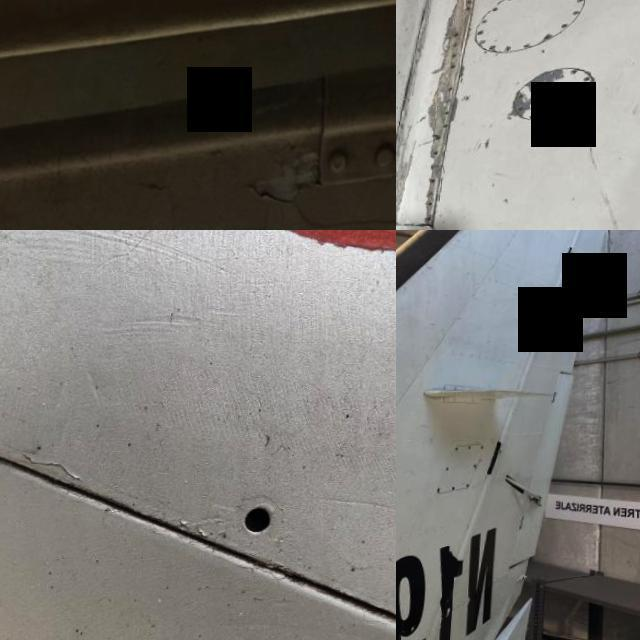Crack: (90, 139, 396, 230), (396, 66, 419, 139), (415, 7, 430, 30)
Missing_Fastener: (204, 470, 312, 572), (436, 152, 443, 158), (446, 112, 453, 118), (430, 218, 436, 224), (433, 180, 439, 186), (452, 65, 458, 71), (437, 137, 444, 142), (452, 55, 459, 60), (445, 126, 451, 131), (452, 45, 459, 49), (454, 35, 460, 39), (432, 204, 436, 208)
